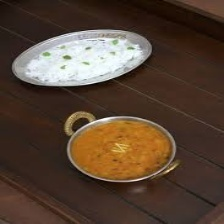rice: (22, 34, 144, 85)
